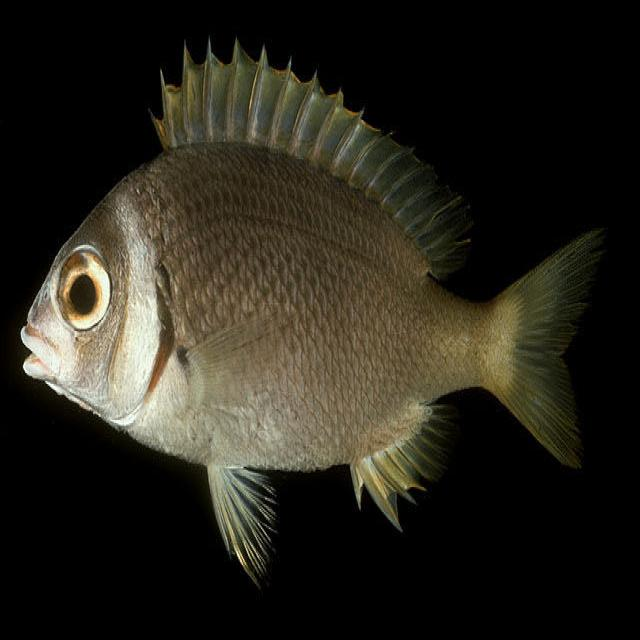ikan: (19, 33, 607, 588)
